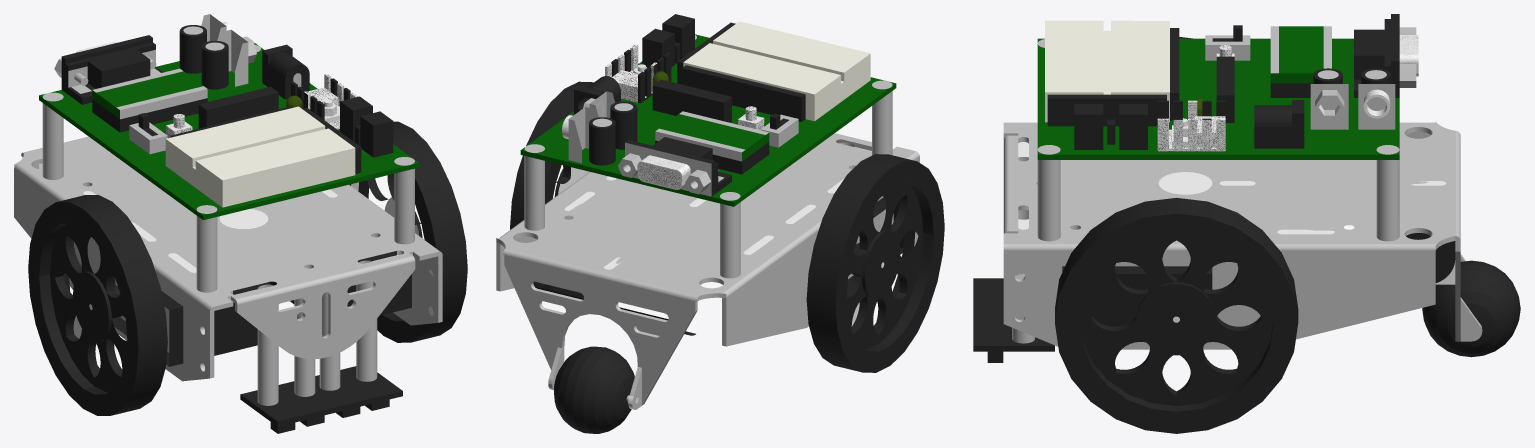
The model's file is boebot.dae.
The picture shows the model from 3 angles, left to right: view 1: azimuth 30°, elevation 25°; view 2: azimuth 150°, elevation 25°; view 3: azimuth 270°, elevation 25°; orthographic projection. The views are drawn at different scales.
Parts seen in each view (by area): view 1: SketchUp (×33); view 2: SketchUp (×29); view 3: SketchUp (×27).
Part boxes in pixels (x1,y1,x2,y2): SketchUp (×33): [14, 25, 467, 426]; SketchUp (×29): [496, 14, 944, 433]; SketchUp (×27): [973, 14, 1520, 433].
Bounding box in the file's own units: 4.59 × 5.99 × 3.65.
